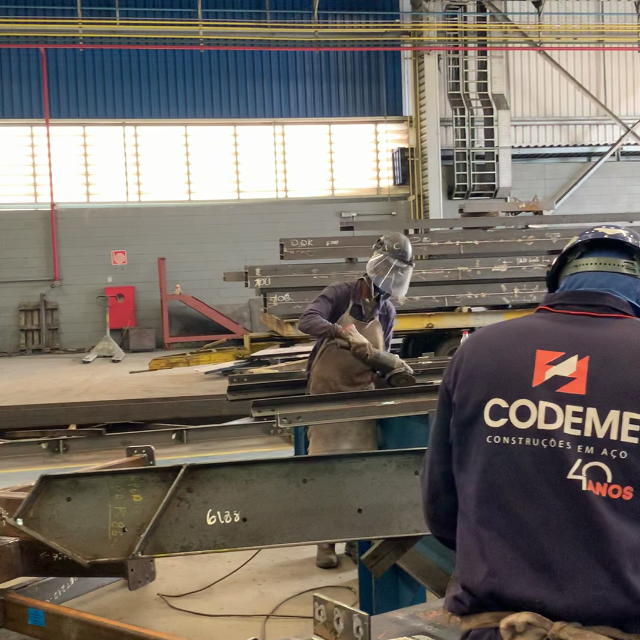face-shield: (365, 252, 416, 307)
helmet: (370, 231, 414, 268)
person: (295, 234, 422, 384)
safety-shoe: (315, 544, 341, 570)
